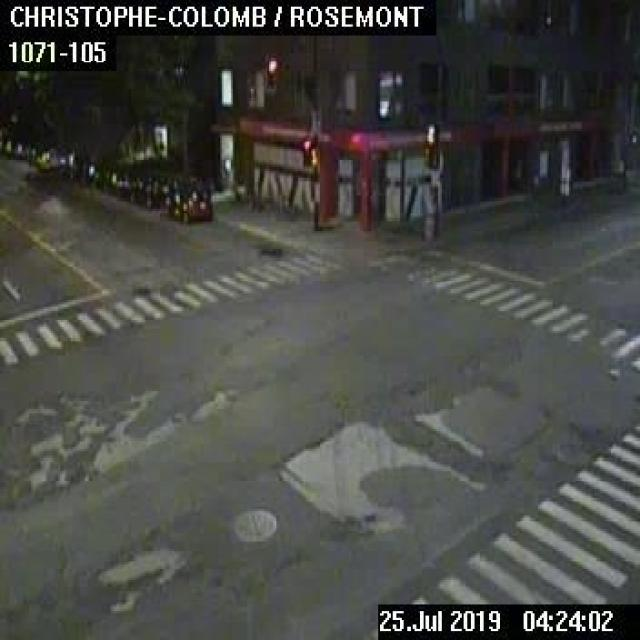vehicle: (165, 184, 211, 222), (128, 176, 163, 210)
